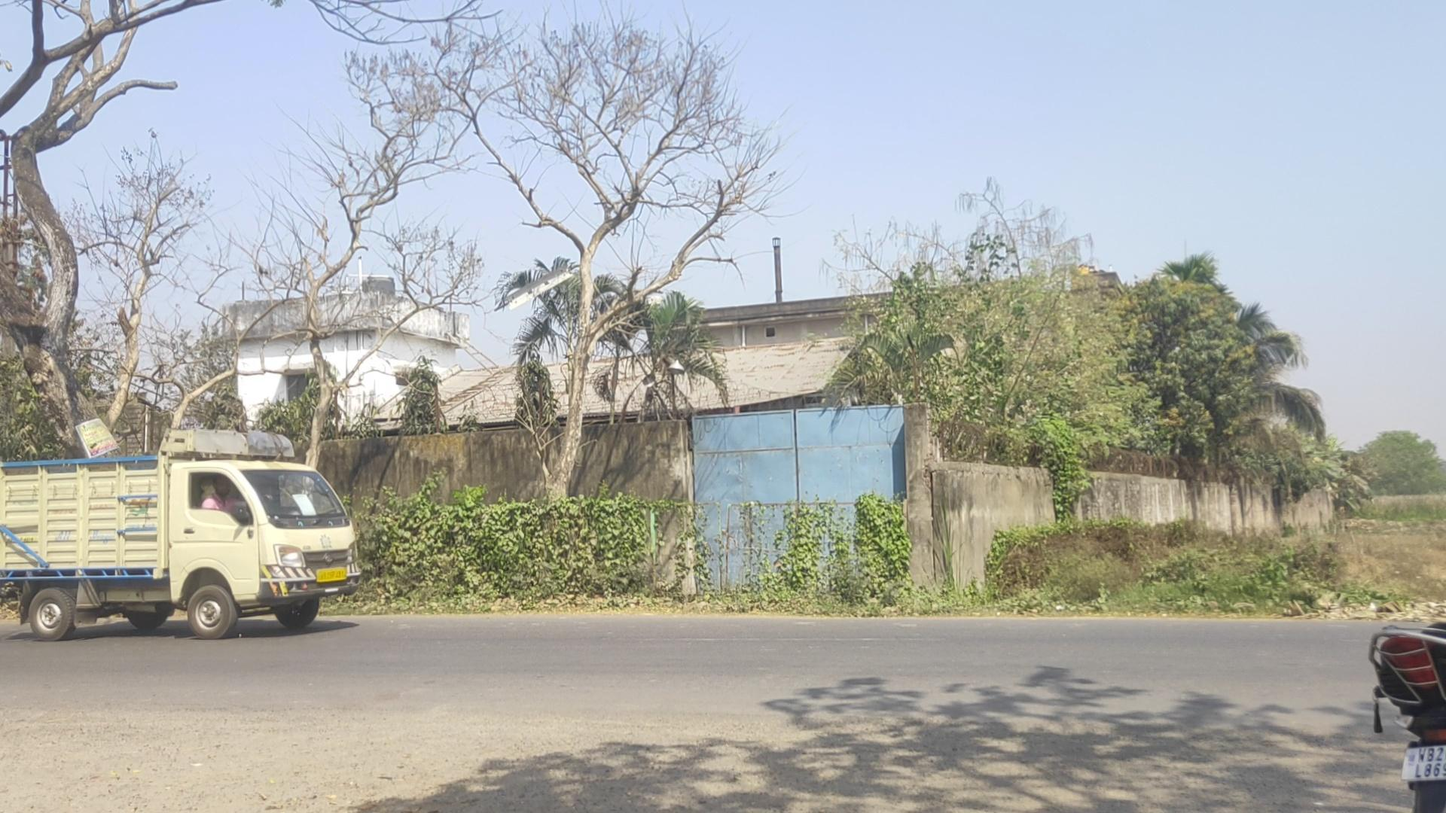van: (1, 428, 363, 641)
